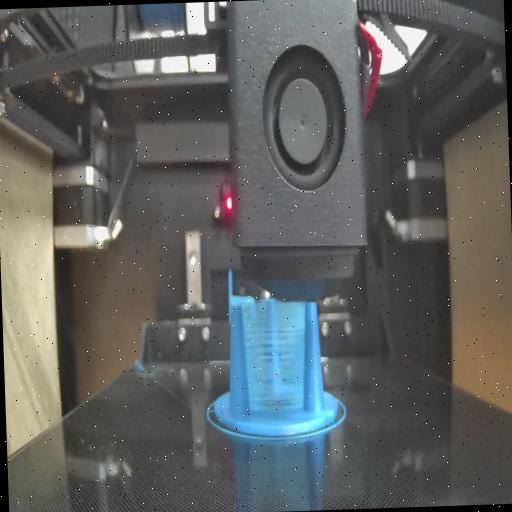stringing: (242, 300, 308, 418)
